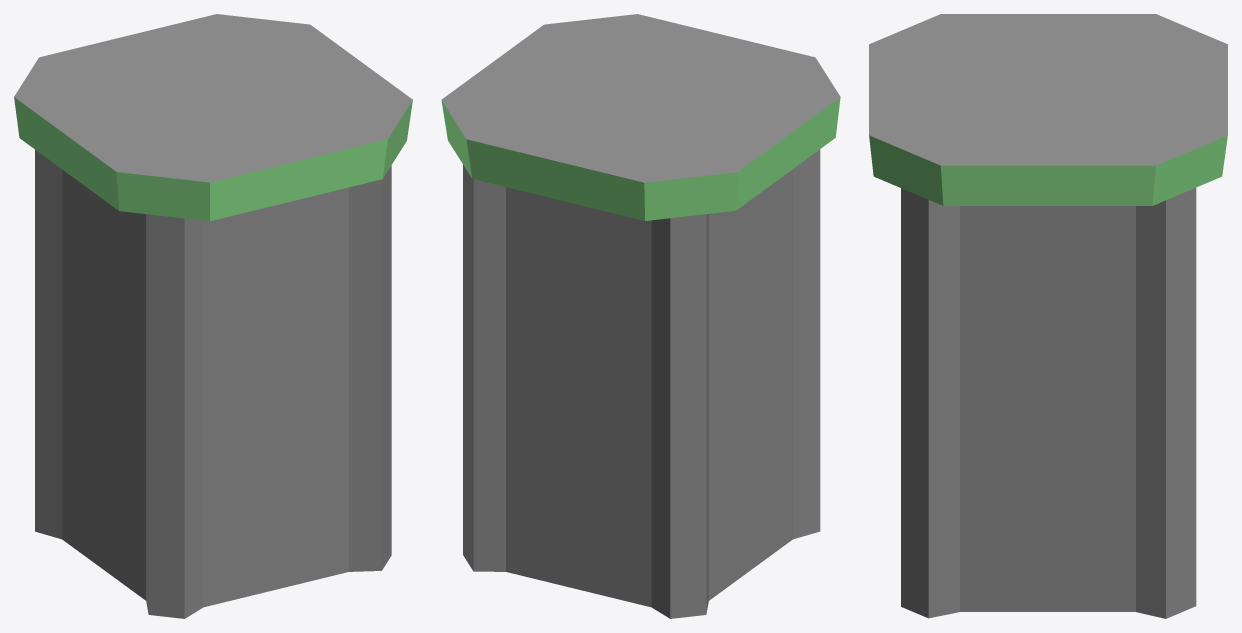
Rendered from skruins_transcept_body01.gltf.
The picture shows the model from 3 angles, left to right: view 1: azimuth 30°, elevation 25°; view 2: azimuth 150°, elevation 25°; view 3: azimuth 270°, elevation 25°; orthographic projection. The views are drawn at different scales.
Visible parts, largest first — view 1: skruins_transcept_body01; view 2: skruins_transcept_body01; view 3: skruins_transcept_body01.
Part boxes in pixels (bbox=[...]): skruins_transcept_body01: bbox=[14, 14, 412, 618]; skruins_transcept_body01: bbox=[441, 14, 840, 618]; skruins_transcept_body01: bbox=[869, 14, 1227, 618].
Size of the model in its own units: 1.02 by 1.47 by 1.02.
